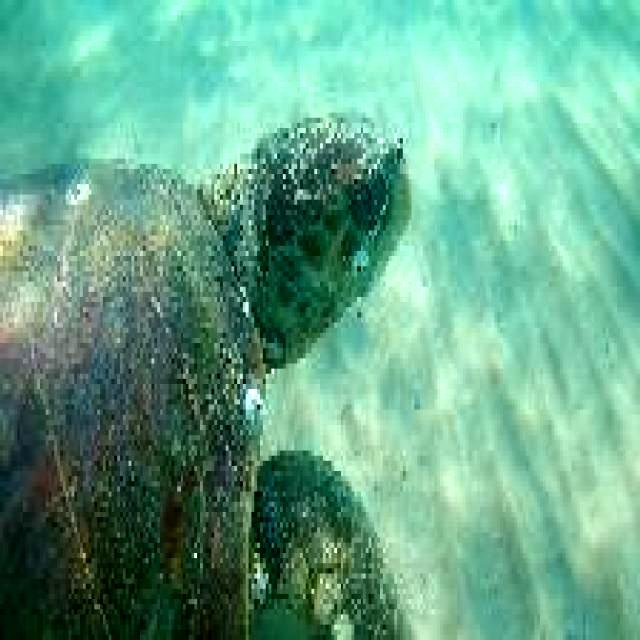Sea turtle: (0, 42, 433, 639)
